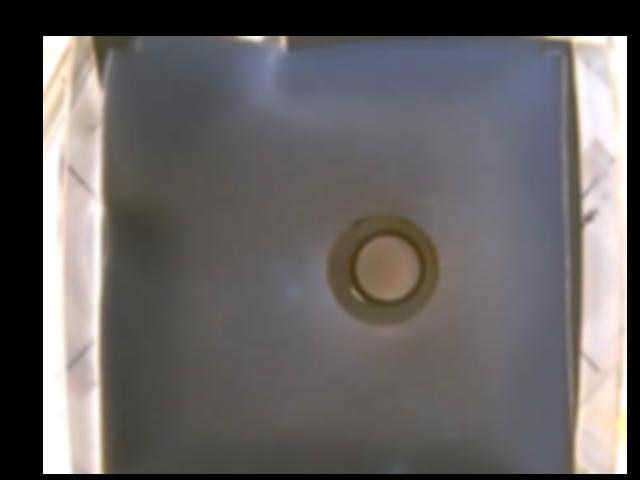Bottle: (325, 214, 442, 326)
